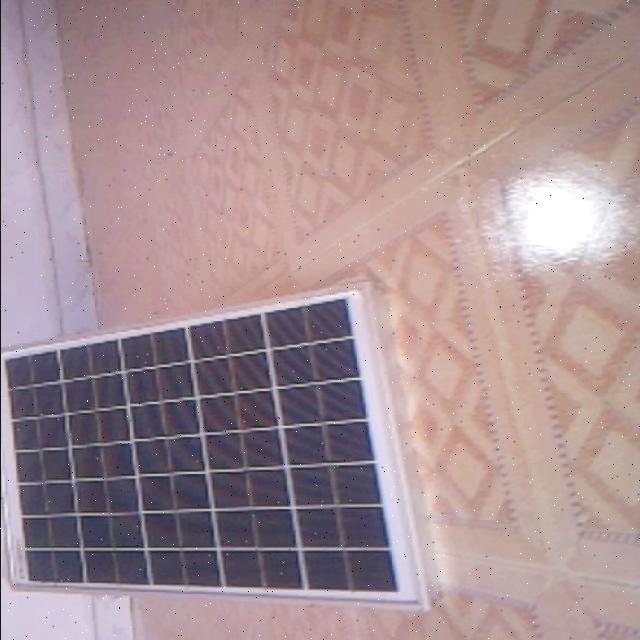Normal Solar Panel: (0, 284, 426, 610)
